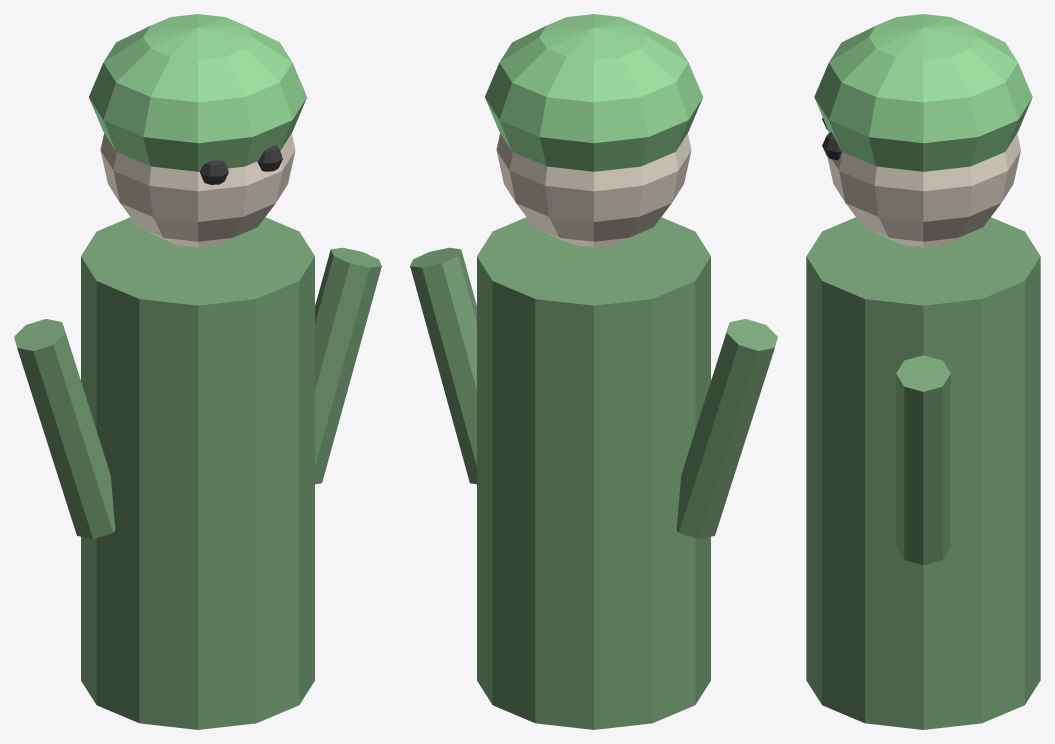
Rendered from hero_hisaishi.glb.
3 views of the same model, side by side, from view 1: azimuth 30°, elevation 25°; view 2: azimuth 150°, elevation 25°; view 3: azimuth 270°, elevation 25° (orthographic).
Parts seen in each view (by area): view 1: hero_hisaishi_Body, hero_hisaishi_Wig, hero_hisaishi_Head, hero_hisaishi_Arm, hero_hisaishi_Arm.001; view 2: hero_hisaishi_Body, hero_hisaishi_Wig, hero_hisaishi_Head, hero_hisaishi_Arm, hero_hisaishi_Arm.001; view 3: hero_hisaishi_Body, hero_hisaishi_Wig, hero_hisaishi_Head, hero_hisaishi_Arm.001.
Part boxes in pixels (left/top/right/bottom): hero_hisaishi_Body: left=81, top=217, right=314, bottom=729; hero_hisaishi_Wig: left=89, top=14, right=306, bottom=171; hero_hisaishi_Head: left=100, top=133, right=295, bottom=247; hero_hisaishi_Arm: left=14, top=319, right=115, bottom=538; hero_hisaishi_Arm.001: left=315, top=247, right=381, bottom=484; hero_hisaishi_Body: left=477, top=217, right=710, bottom=729; hero_hisaishi_Wig: left=485, top=14, right=702, bottom=171; hero_hisaishi_Head: left=496, top=133, right=691, bottom=247; hero_hisaishi_Arm: left=676, top=319, right=777, bottom=538; hero_hisaishi_Arm.001: left=410, top=247, right=476, bottom=484; hero_hisaishi_Body: left=806, top=217, right=1040, bottom=729; hero_hisaishi_Wig: left=814, top=14, right=1032, bottom=171; hero_hisaishi_Head: left=827, top=133, right=1020, bottom=247; hero_hisaishi_Arm.001: left=896, top=355, right=950, bottom=565.
Size of the model in its own units: 1.07 by 1.85 by 0.6.
